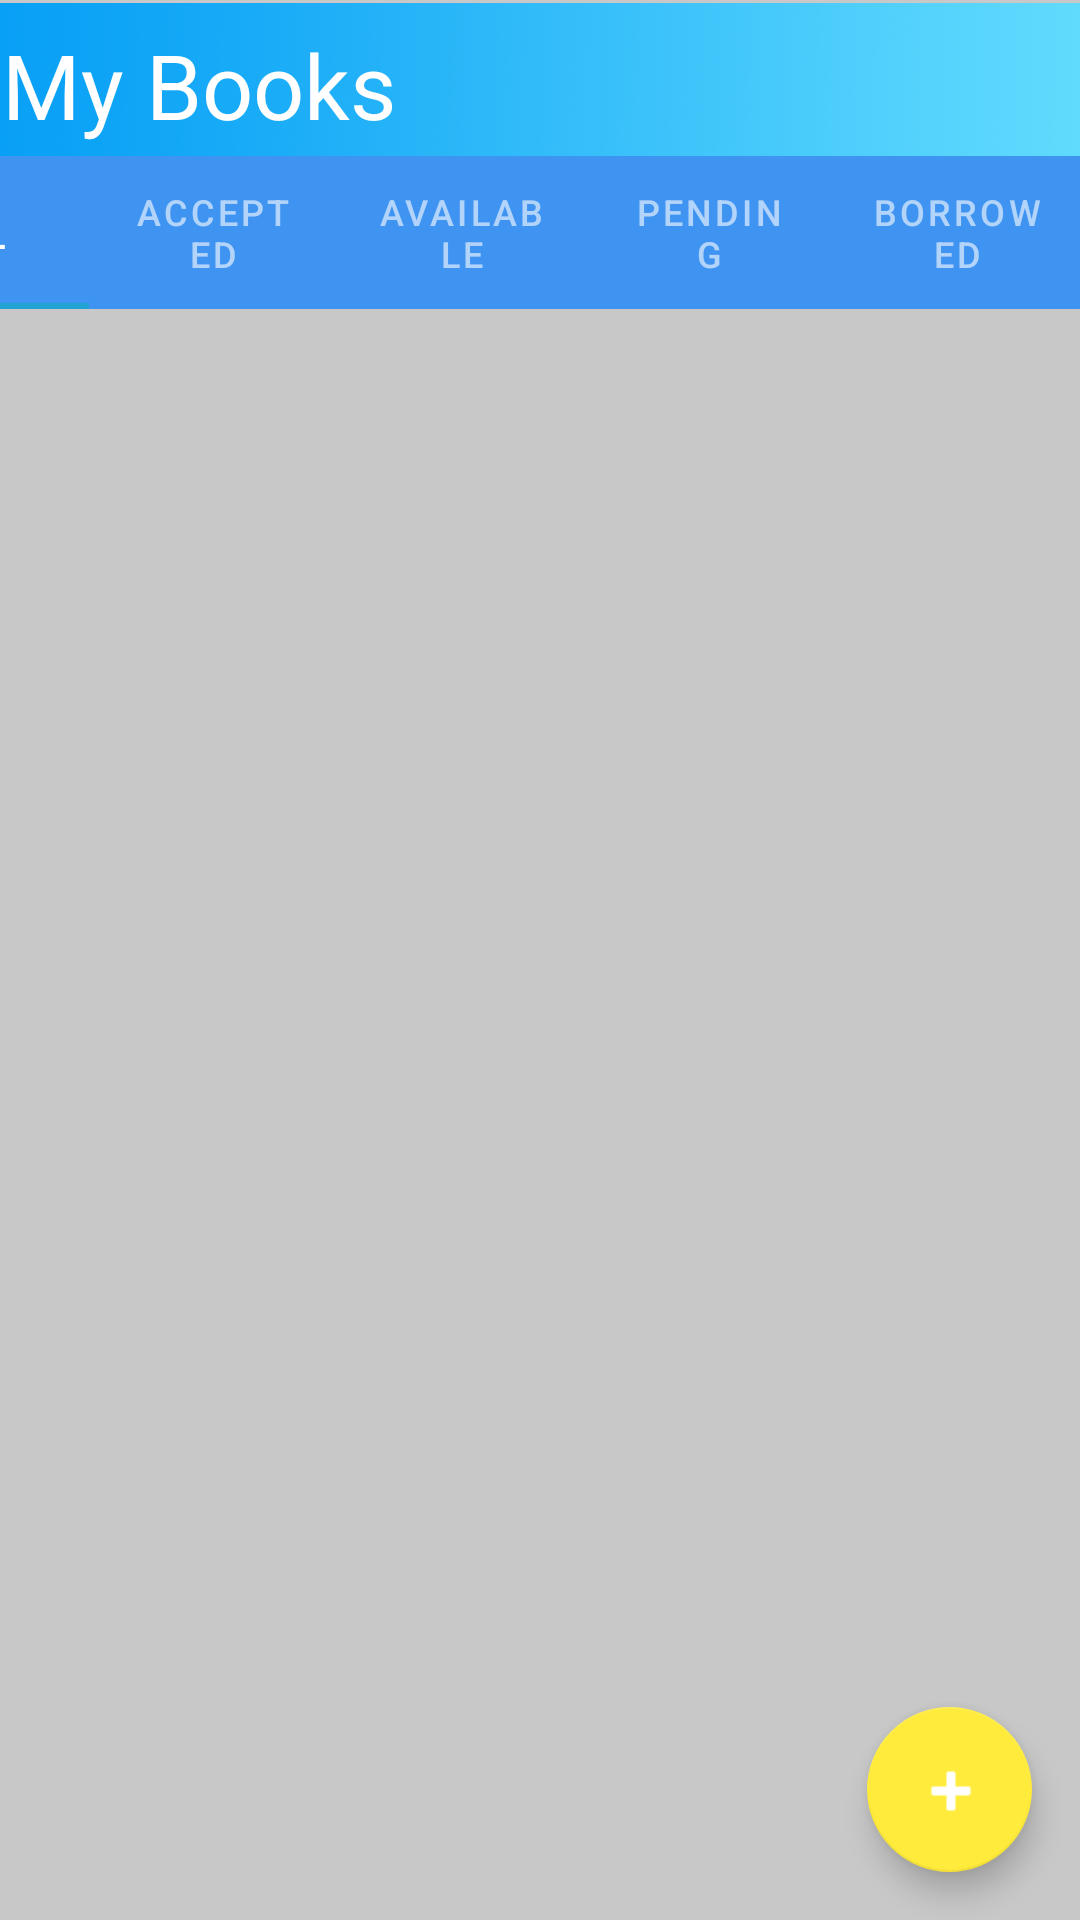

Named icons in this screenshot (1080 × 1920) and their centers, [x,y]:
add: [949,1789]
